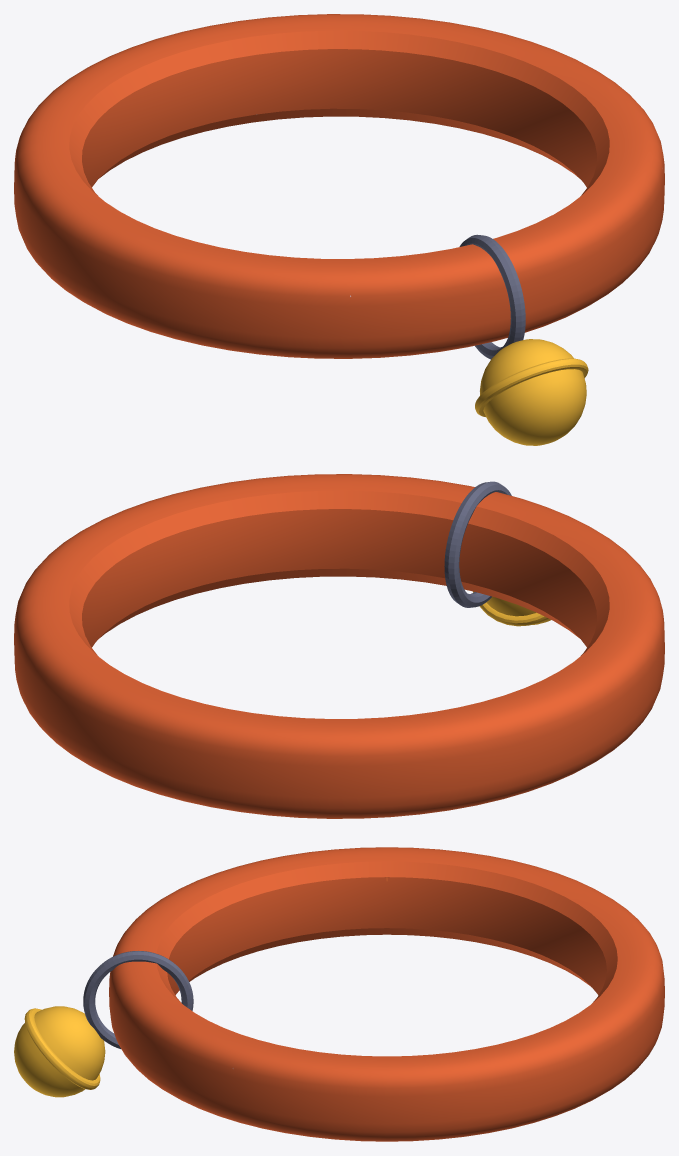
The model's file is necklace.fbx.
3 views of the same model, one above another, from view 1: azimuth 30°, elevation 25°; view 2: azimuth 150°, elevation 25°; view 3: azimuth 270°, elevation 25° (orthographic). The views are drawn at different scales.
Visible parts, largest first — view 1: 球体.001; view 2: 球体.001; view 3: 球体.001.
Boxes of the visible parts, box(x1,y1,x2,y2) form: 球体.001: box(14, 14, 664, 445); 球体.001: box(14, 474, 664, 818); 球体.001: box(14, 847, 664, 1141).
Bounding box in the file's own units: 83.8 × 23.75 × 98.13.
